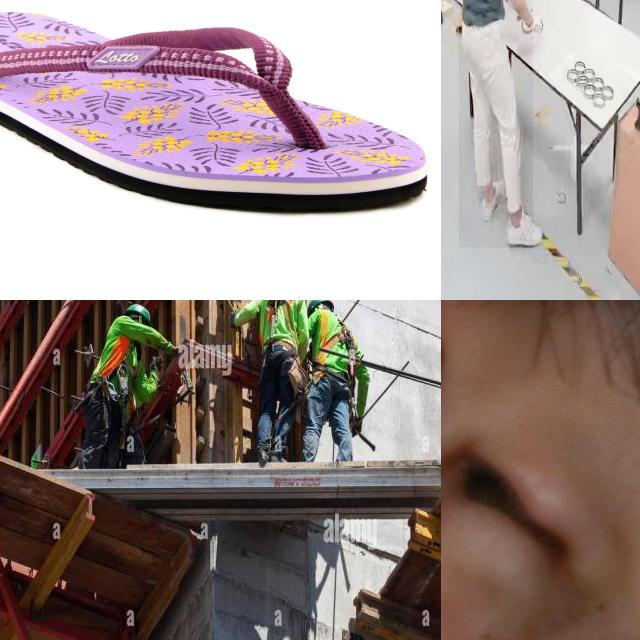Harness: (96, 318, 146, 444), (315, 308, 357, 412), (253, 300, 301, 388)
No_Ear-Protection: (441, 300, 640, 640)
Sandals: (0, 9, 428, 215)
person: (458, 0, 533, 248)
shoes: (505, 200, 547, 254), (479, 176, 505, 227)
